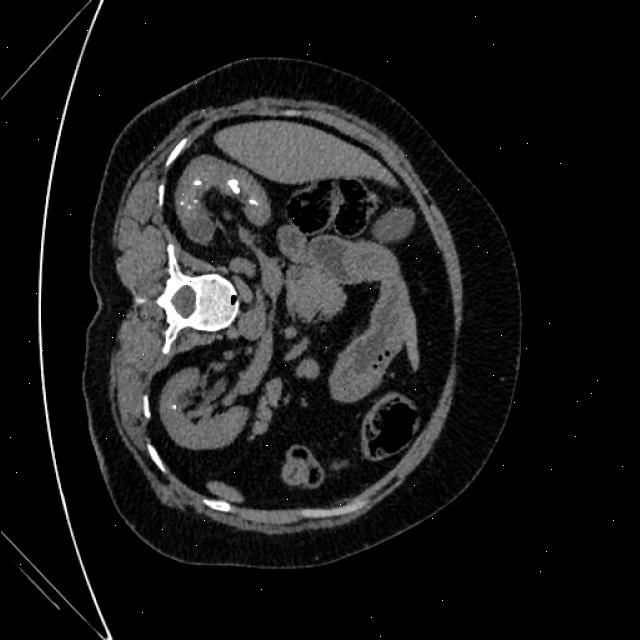kidneystone: (227, 179, 239, 193), (248, 199, 258, 206), (192, 180, 201, 186), (171, 404, 176, 410), (179, 200, 184, 205)
